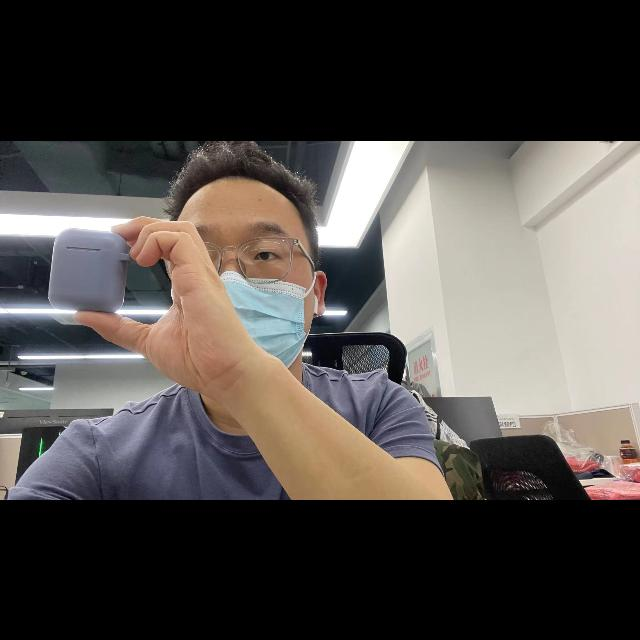airpods: (48, 227, 134, 312)
